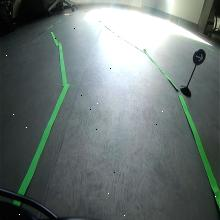right: (192, 48, 206, 66)
